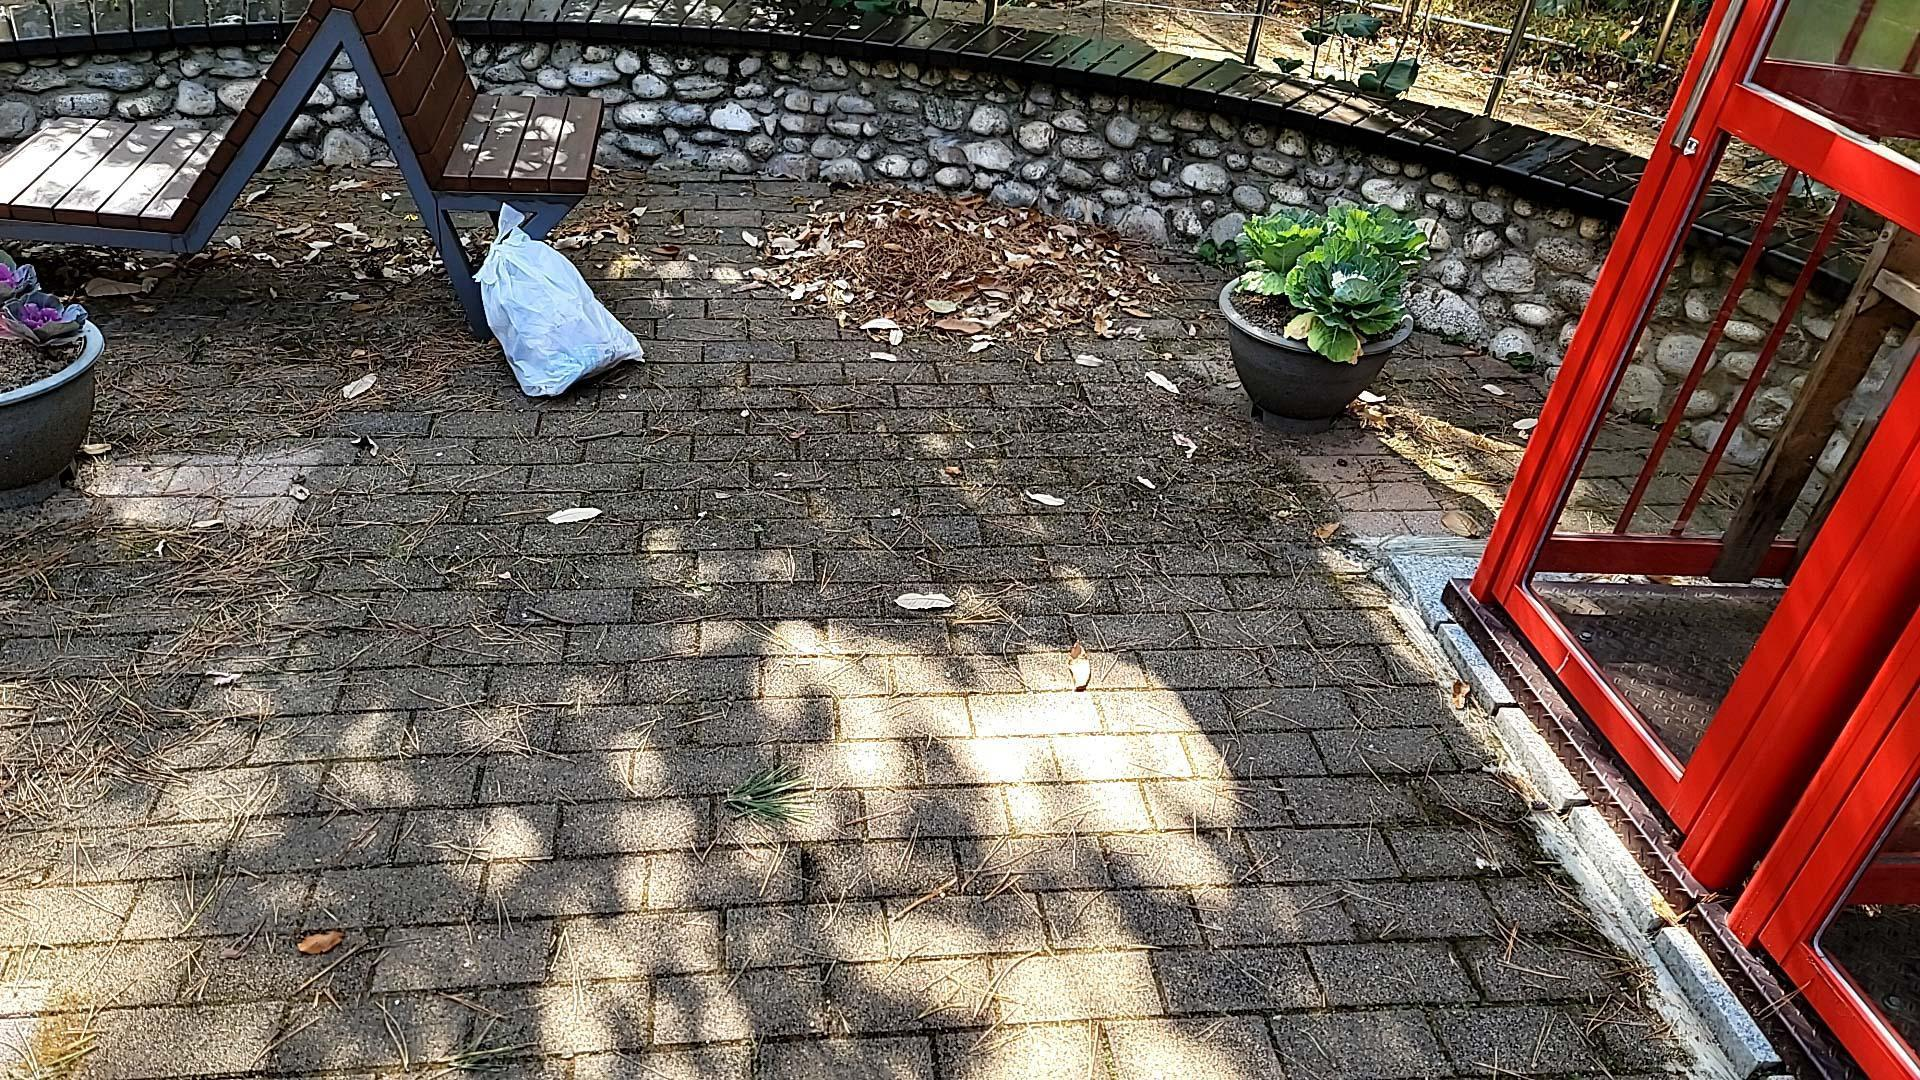white_bag: (458, 195, 662, 405)
